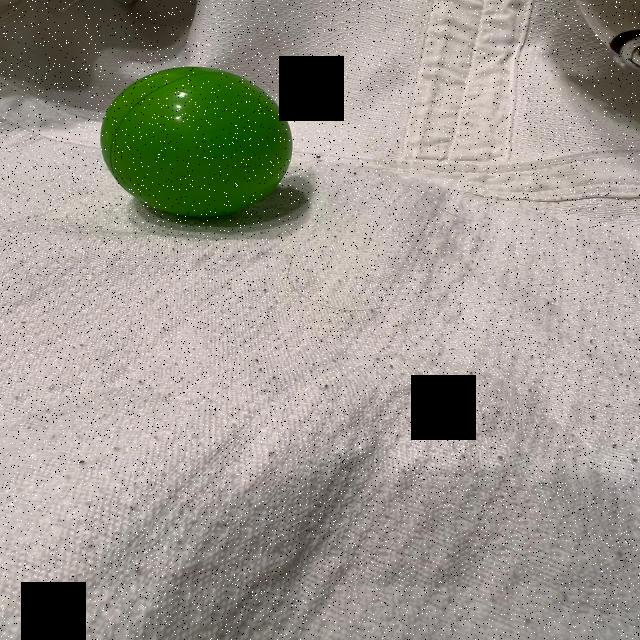ball: (97, 64, 297, 221)
